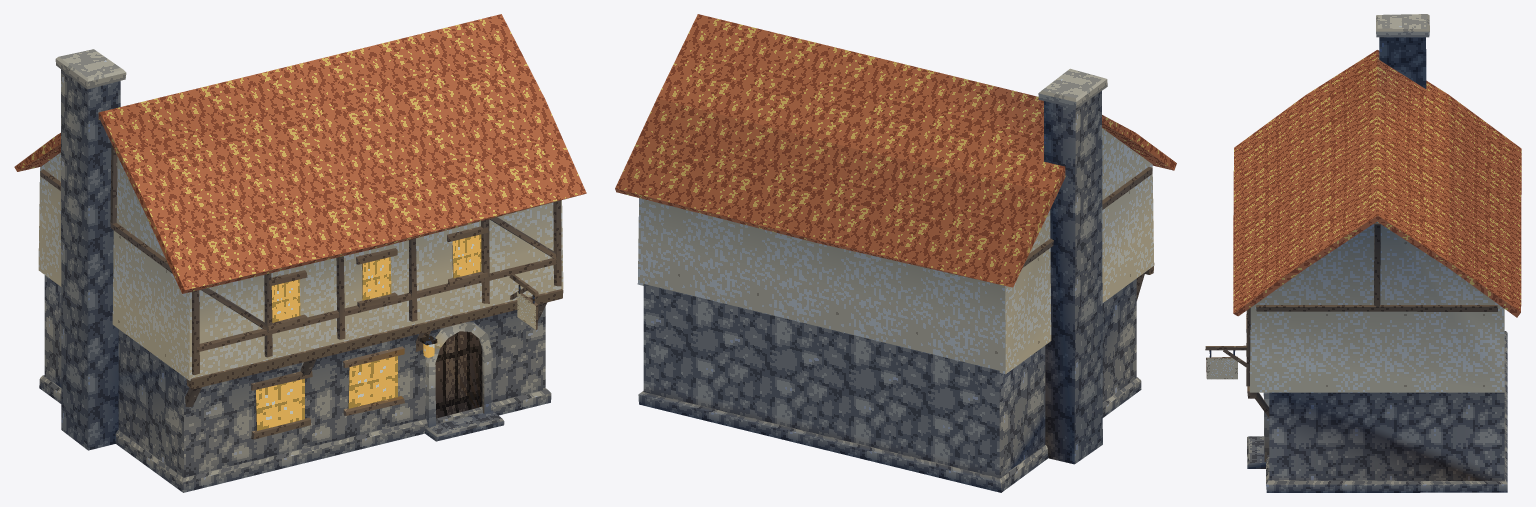
Rendered from vlg.tavern.glb.
3 renders of one model, left to right at view 1: azimuth 30°, elevation 25°; view 2: azimuth 150°, elevation 25°; view 3: azimuth 270°, elevation 25°, orthographic. The views are drawn at different scales.
Visible parts, largest first — view 1: kit_roof, kit_walls, kit_stonework, kit_fittings, kit_frame; view 2: kit_walls, kit_roof, kit_stonework, kit_frame; view 3: kit_walls, kit_roof, kit_stonework, kit_frame, kit_fittings.
Boxes of the visible parts, x1,y1,x2,y2 form: kit_roof: [14, 14, 586, 293]; kit_walls: [38, 152, 563, 477]; kit_stonework: [39, 49, 551, 492]; kit_fittings: [250, 226, 538, 441]; kit_frame: [40, 144, 563, 407]; kit_walls: [637, 128, 1154, 477]; kit_roof: [615, 14, 1176, 287]; kit_stonework: [638, 68, 1141, 492]; kit_frame: [1022, 166, 1154, 300]; kit_walls: [1249, 222, 1504, 481]; kit_roof: [1233, 50, 1521, 317]; kit_stonework: [1266, 14, 1507, 492]; kit_frame: [1246, 223, 1497, 417]; kit_fittings: [1205, 314, 1269, 468].
Size of the model in its own units: 10.35 by 8.87 by 8.06.
Materials: 11 (11 with a texture image).
